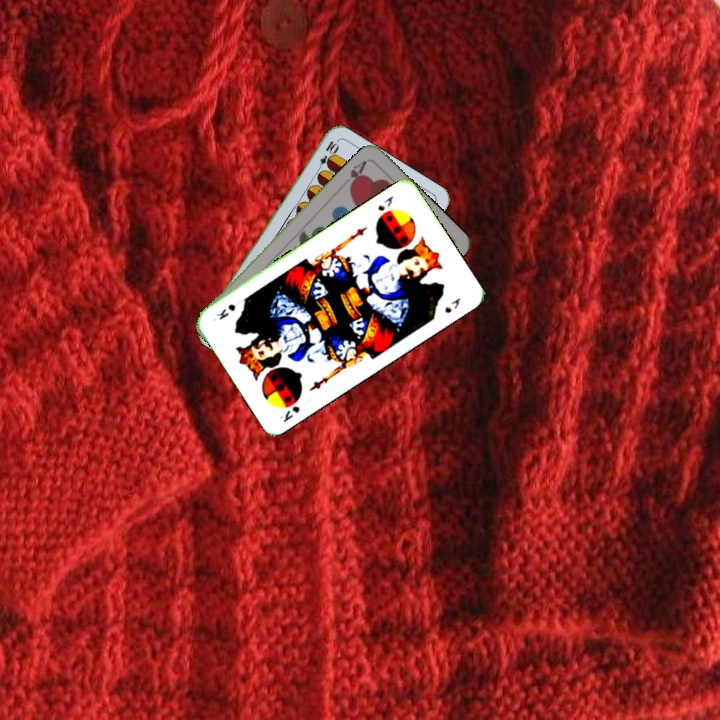E10: (313, 137, 340, 175)
HA: (338, 156, 370, 192)
SK: (276, 402, 302, 425), (373, 192, 396, 214)
